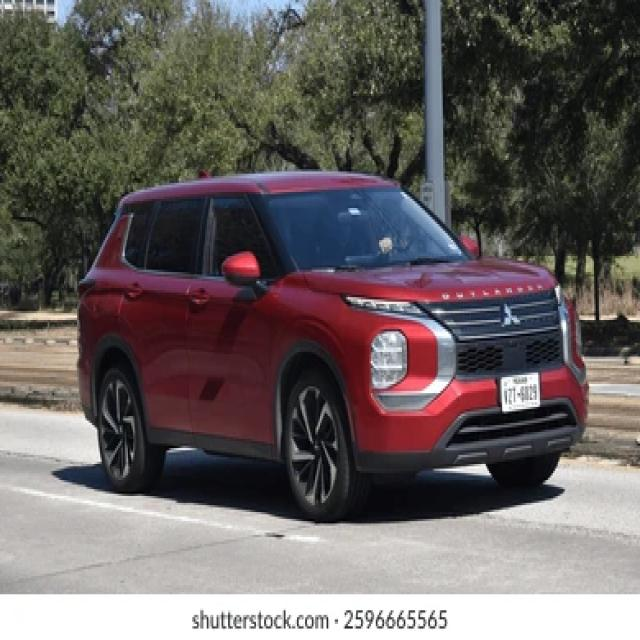mitsubishi: (494, 302, 530, 328)
